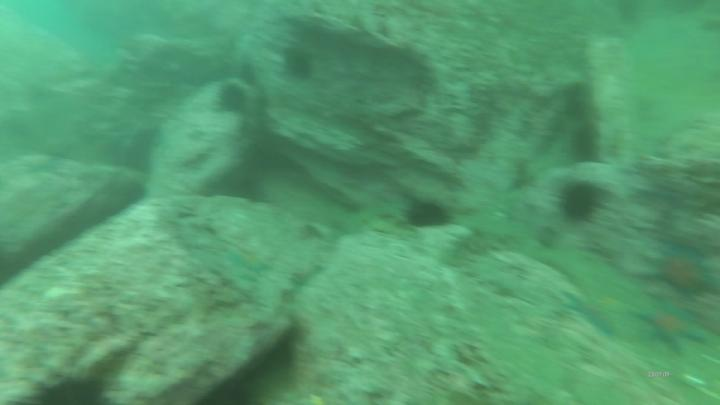echinus: (561, 180, 603, 226), (403, 196, 456, 231), (214, 82, 251, 116), (284, 50, 318, 83)
starfish: (641, 301, 710, 358), (654, 242, 715, 295)
